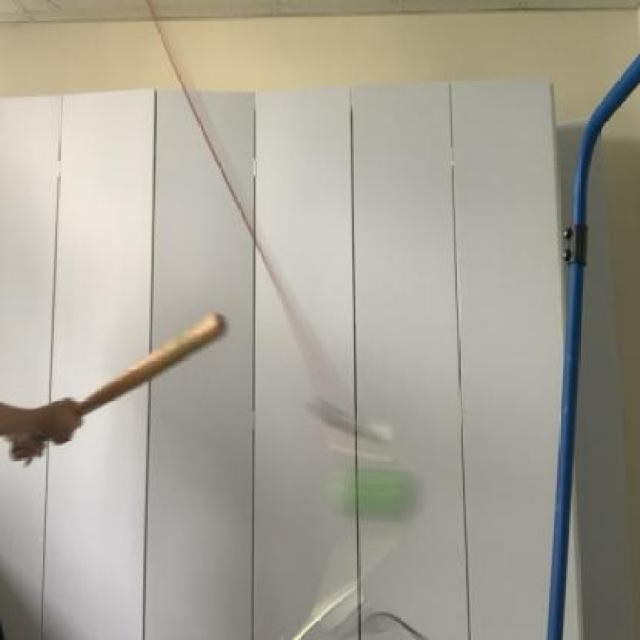baseball: (316, 446, 427, 542)
